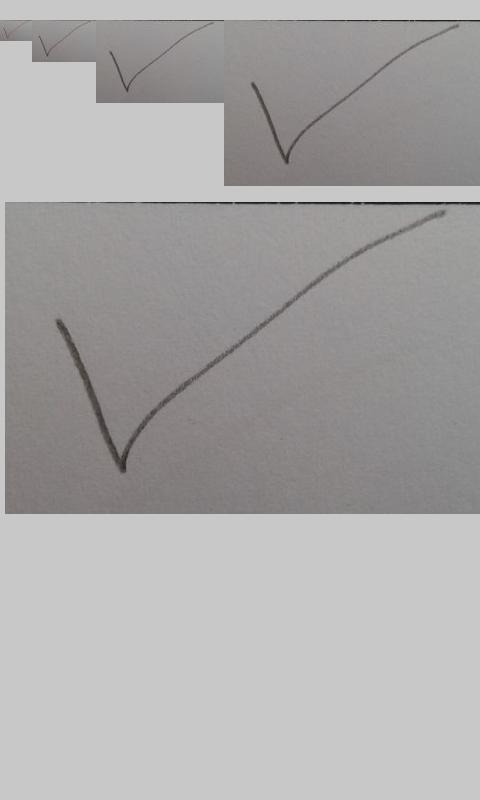check_box: (57, 237, 389, 475), (251, 30, 445, 164), (109, 25, 207, 93), (38, 24, 84, 57), (2, 23, 24, 39)
